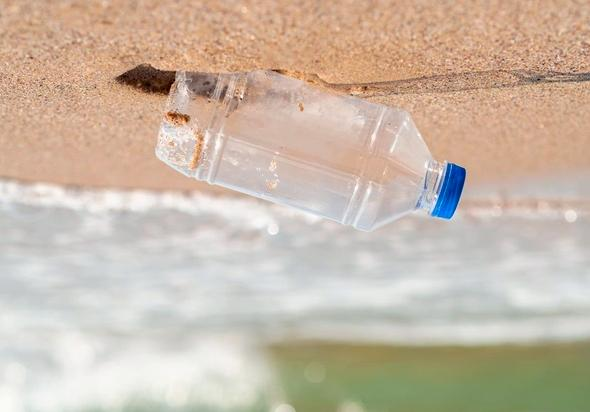Plastic: (153, 49, 477, 234)
